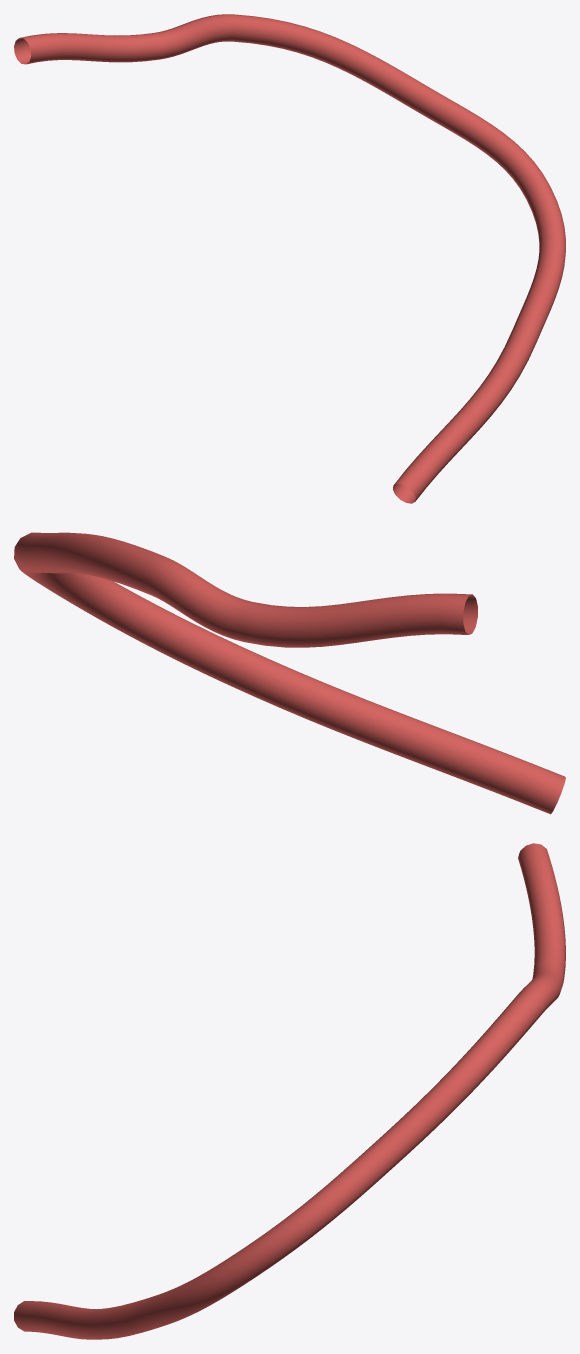
The picture shows the model from 3 angles, top to bottom: view 1: azimuth 30°, elevation 25°; view 2: azimuth 150°, elevation 25°; view 3: azimuth 270°, elevation 25°; orthographic projection. The views are drawn at different scales.
Parts seen in each view (by area): view 1: 右侧尺动脉腕背支; view 2: 右侧尺动脉腕背支; view 3: 右侧尺动脉腕背支.
Boxes of the visible parts, left/top/right/bottom form: 右侧尺动脉腕背支: left=14, top=14, right=565, bottom=503; 右侧尺动脉腕背支: left=14, top=532, right=565, bottom=814; 右侧尺动脉腕背支: left=14, top=843, right=565, bottom=1339.
Bounding box in the file's own units: 0.0358 × 0.0287 × 0.0362.
